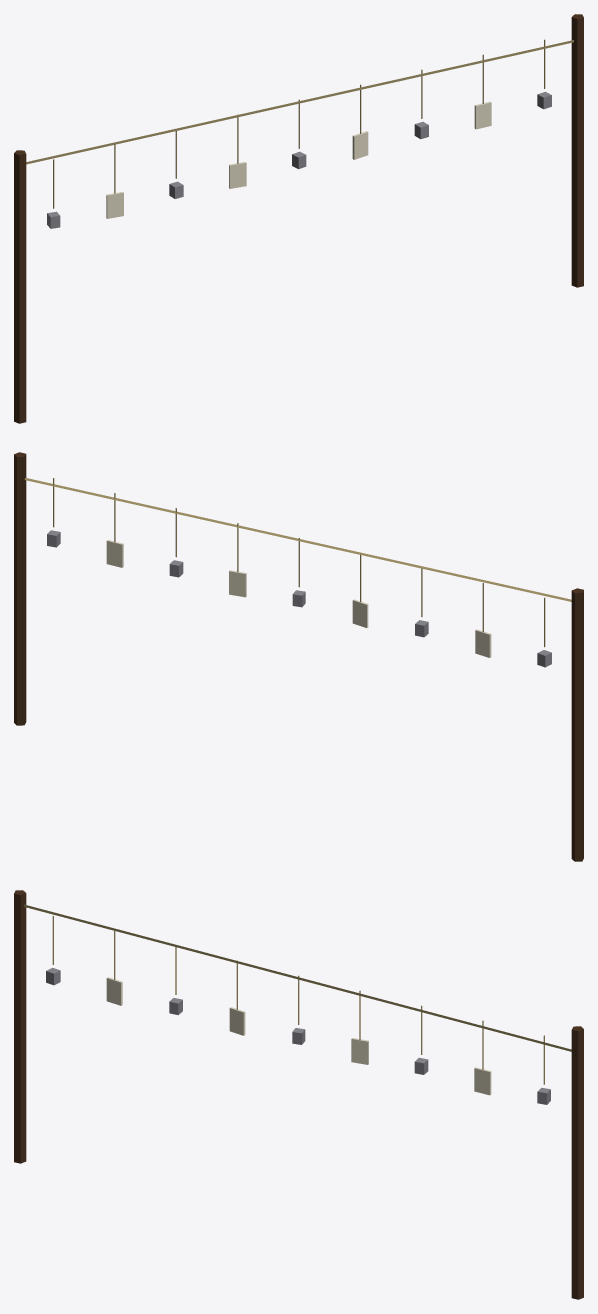
File: a1r_bird_line.glb
3 views of the same model, one above another, from view 1: azimuth 30°, elevation 25°; view 2: azimuth 150°, elevation 25°; view 3: azimuth 330°, elevation 25° (orthographic).
Visible parts, largest first — view 1: a1r_bird_line; view 2: a1r_bird_line; view 3: a1r_bird_line.
Boxes of the visible parts, x1,y1,x2,y2 form: a1r_bird_line: (14, 14, 583, 423); a1r_bird_line: (14, 452, 583, 861); a1r_bird_line: (14, 890, 583, 1299).
Bounding box in the file's own units: 5.1 × 2.3 × 0.0965.
